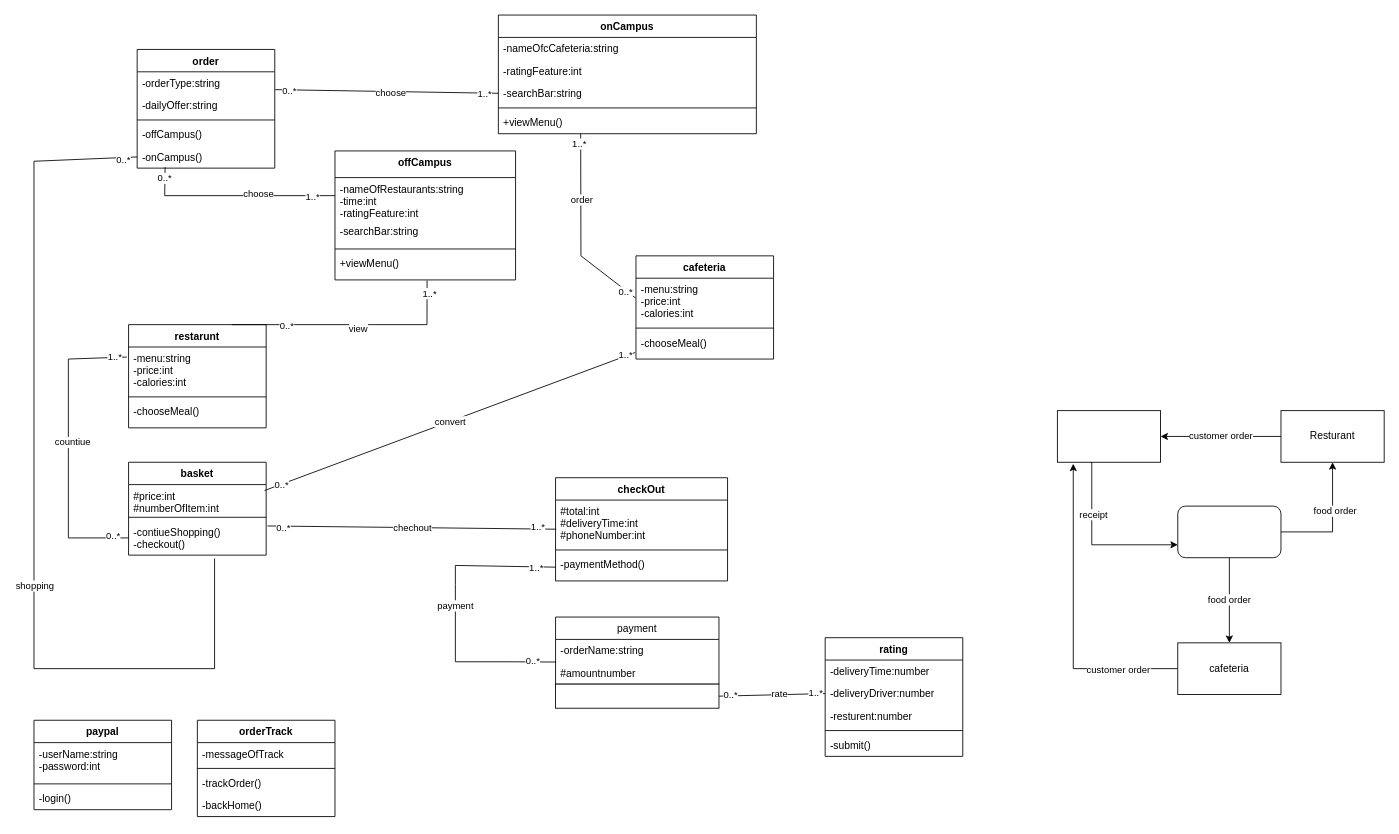
The diagram is 1399 pixels wide and 834 high, and some of its shapes have lost their labels. The centre of each missing label's shape, as x and y in pixels:
"-rate()" goes at point 637,695.
"UJ food system" goes at point 1229,531.
"volunteers" goes at point 1109,436.
